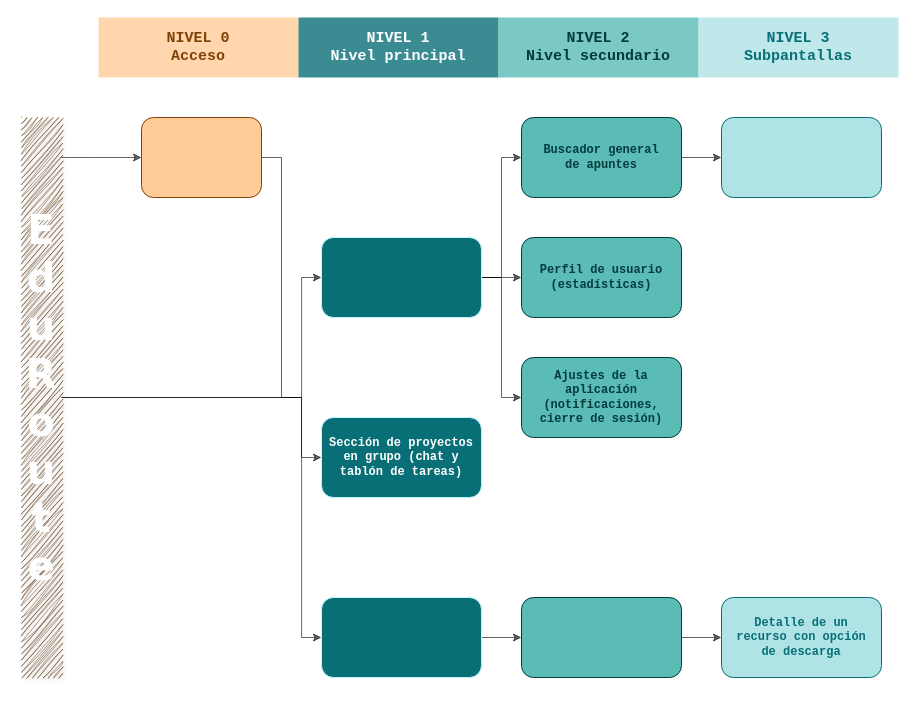
Some shapes in this 915 by 701 pixel diagram are drawn without their labels. Each missing label, with the centre of its shape:
Detalle de una asignatura (temario y archivos): (601,637)
Formulario para subir un nuevo apunte: (801,157)
Listado de asignaturas matriculadas: (401,637)
Panel de control principal: (401,277)
Pantalla de login/registro: (201,157)
